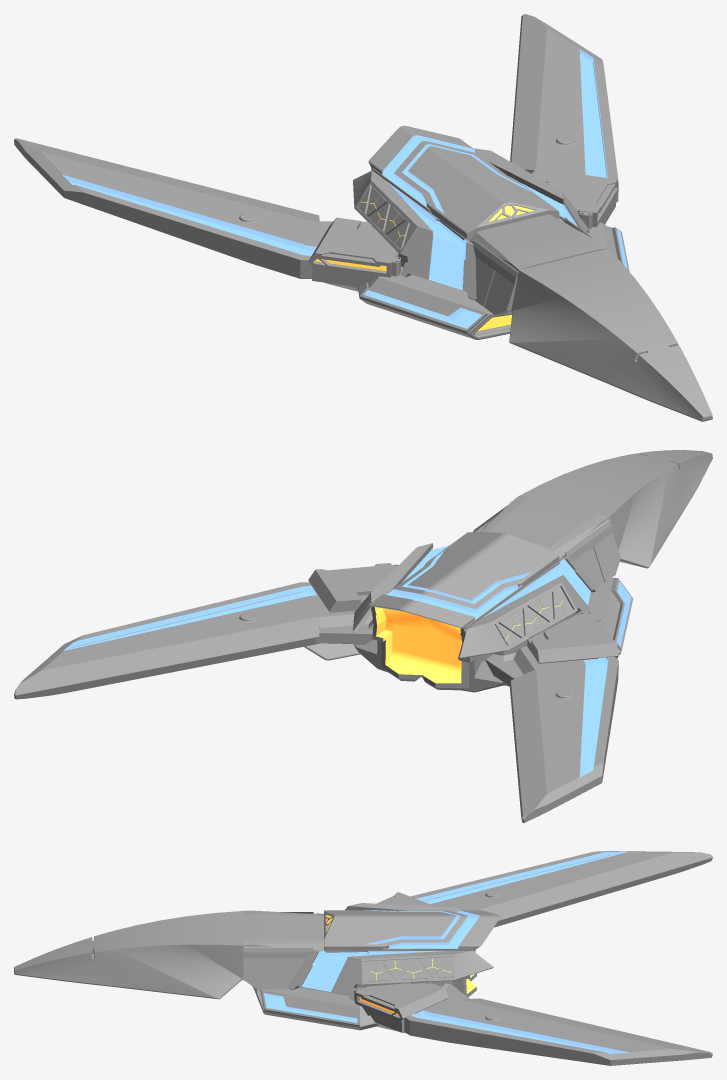
File: spaceship.glb
3 views of the same model, one above another, from view 1: azimuth 30°, elevation 25°; view 2: azimuth 150°, elevation 25°; view 3: azimuth 270°, elevation 25° (orthographic). The views are drawn at different scales.
Visible parts, largest first — view 1: 3DGeom-1576, 3DGeom-1575, 3DGeom-1577; view 2: 3DGeom-1576, 3DGeom-1575, 3DGeom-1577; view 3: 3DGeom-1576, 3DGeom-1575, 3DGeom-1577.
Part boxes in pixels (left/top/right/bottom): 3DGeom-1576: left=14, top=14, right=712, bottom=421; 3DGeom-1575: left=62, top=49, right=627, bottom=328; 3DGeom-1577: left=315, top=201, right=534, bottom=331; 3DGeom-1576: left=14, top=450, right=712, bottom=822; 3DGeom-1575: left=63, top=545, right=631, bottom=777; 3DGeom-1577: left=375, top=600, right=564, bottom=683; 3DGeom-1576: left=14, top=851, right=712, bottom=1065; 3DGeom-1575: left=263, top=851, right=628, bottom=1053; 3DGeom-1577: left=326, top=915, right=476, bottom=1015.
Bounding box in the file's own units: 0.1596 × 0.027 × 0.2256.
